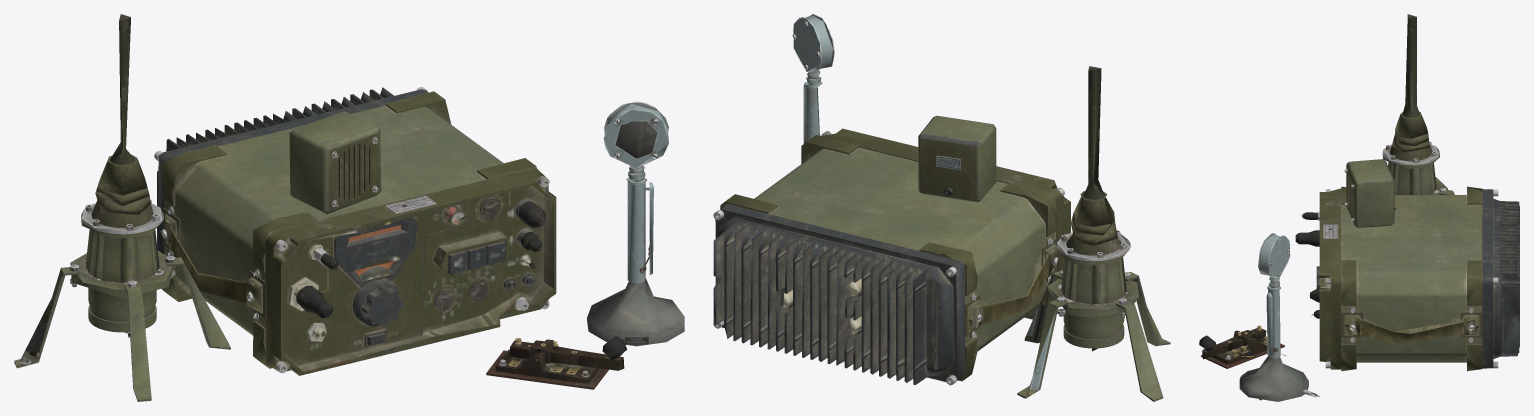
File: vintage_radio_transceiver.glb
3 renders of one model, left to right at view 1: azimuth 30°, elevation 25°; view 2: azimuth 150°, elevation 25°; view 3: azimuth 270°, elevation 25°, orthographic. The views are drawn at different scales.
Visible parts, largest first — view 1: vintage_radio_transceiver, vintage_radio_transceiver_antenna, vintage_radio_transceiver_microphone, vintage_radio_transceiver_speaker, vintage_radio_transceiver_morse_key_base, vintage_radio_transceiver_morse_key_arm, vintage_radio_transceiver_dial, vintage_radio_transceiver_antenna_plug_a; view 2: vintage_radio_transceiver, vintage_radio_transceiver_antenna, vintage_radio_transceiver_speaker, vintage_radio_transceiver_microphone; view 3: vintage_radio_transceiver, vintage_radio_transceiver_antenna, vintage_radio_transceiver_microphone, vintage_radio_transceiver_speaker, vintage_radio_transceiver_morse_key_base, vintage_radio_transceiver_morse_key_arm, vintage_radio_transceiver_antenna_plug_a.
Boxes of the visible parts, x1=… form: vintage_radio_transceiver: x1=154, y1=87, x2=556, y2=375; vintage_radio_transceiver_antenna: x1=14, y1=14, x2=230, y2=401; vintage_radio_transceiver_microphone: x1=587, y1=101, x2=684, y2=346; vintage_radio_transceiver_speaker: x1=289, y1=111, x2=381, y2=214; vintage_radio_transceiver_morse_key_base: x1=486, y1=339, x2=608, y2=389; vintage_radio_transceiver_morse_key_arm: x1=509, y1=336, x2=626, y2=370; vintage_radio_transceiver_dial: x1=352, y1=261, x2=402, y2=327; vintage_radio_transceiver_antenna_plug_a: x1=296, y1=285, x2=332, y2=318; vintage_radio_transceiver: x1=713, y1=128, x2=1070, y2=385; vintage_radio_transceiver_antenna: x1=1017, y1=66, x2=1170, y2=401; vintage_radio_transceiver_speaker: x1=918, y1=115, x2=996, y2=202; vintage_radio_transceiver_microphone: x1=792, y1=14, x2=834, y2=143; vintage_radio_transceiver: x1=1319, y1=186, x2=1519, y2=371; vintage_radio_transceiver_antenna: x1=1382, y1=14, x2=1454, y2=194; vintage_radio_transceiver_microphone: x1=1239, y1=233, x2=1316, y2=401; vintage_radio_transceiver_speaker: x1=1344, y1=159, x2=1394, y2=228; vintage_radio_transceiver_morse_key_base: x1=1201, y1=330, x2=1284, y2=368; vintage_radio_transceiver_morse_key_arm: x1=1199, y1=325, x2=1266, y2=359; vintage_radio_transceiver_antenna_plug_a: x1=1295, y1=230, x2=1319, y2=246.
Bounding box in the file's own units: 0.5639 × 0.3332 × 0.4128.
Materials: 2 (2 with a texture image).
